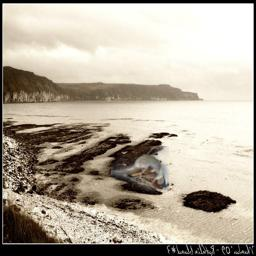Sparrow: (111, 146, 169, 191)
